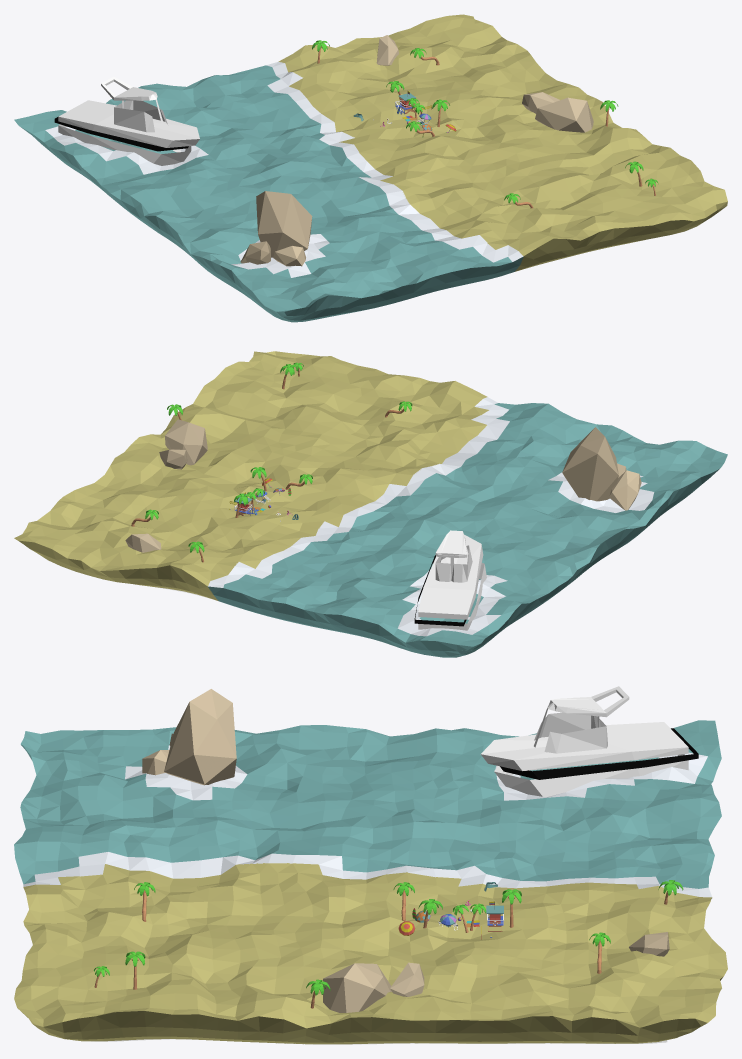
File: Beach.fbx
3 renders of one model, top to bottom at view 1: azimuth 30°, elevation 25°; view 2: azimuth 150°, elevation 25°; view 3: azimuth 270°, elevation 25°, orthographic. The views are drawn at different scales.
Visible parts, largest first — view 1: Sand-material, LightBlue-material.003, W2-material, R1-material, White-material.001, Black-material; view 2: Sand-material, LightBlue-material.003, W2-material, R1-material, White-material.001; view 3: Sand-material, LightBlue-material.003, White-material.001, W2-material, R1-material, Black-material.
Part boxes in pixels (bbox=[...]): Sand-material: bbox=[278, 14, 727, 271]; LightBlue-material.003: bbox=[14, 65, 523, 322]; W2-material: bbox=[45, 61, 523, 277]; R1-material: bbox=[240, 35, 593, 266]; White-material.001: bbox=[58, 76, 199, 165]; Black-material: bbox=[54, 117, 188, 151]; Sand-material: bbox=[14, 351, 488, 600]; LightBlue-material.003: bbox=[207, 403, 727, 657]; W2-material: bbox=[208, 397, 654, 636]; R1-material: bbox=[125, 419, 641, 552]; White-material.001: bbox=[418, 530, 486, 630]; Sand-material: bbox=[14, 863, 727, 1044]; LightBlue-material.003: bbox=[14, 720, 721, 888]; White-material.001: bbox=[481, 686, 688, 796]; W2-material: bbox=[23, 745, 711, 897]; R1-material: bbox=[142, 689, 669, 1012]; Black-material: bbox=[500, 728, 698, 779].
Size of the model in its own units: 65814 by 12798 by 66196.
